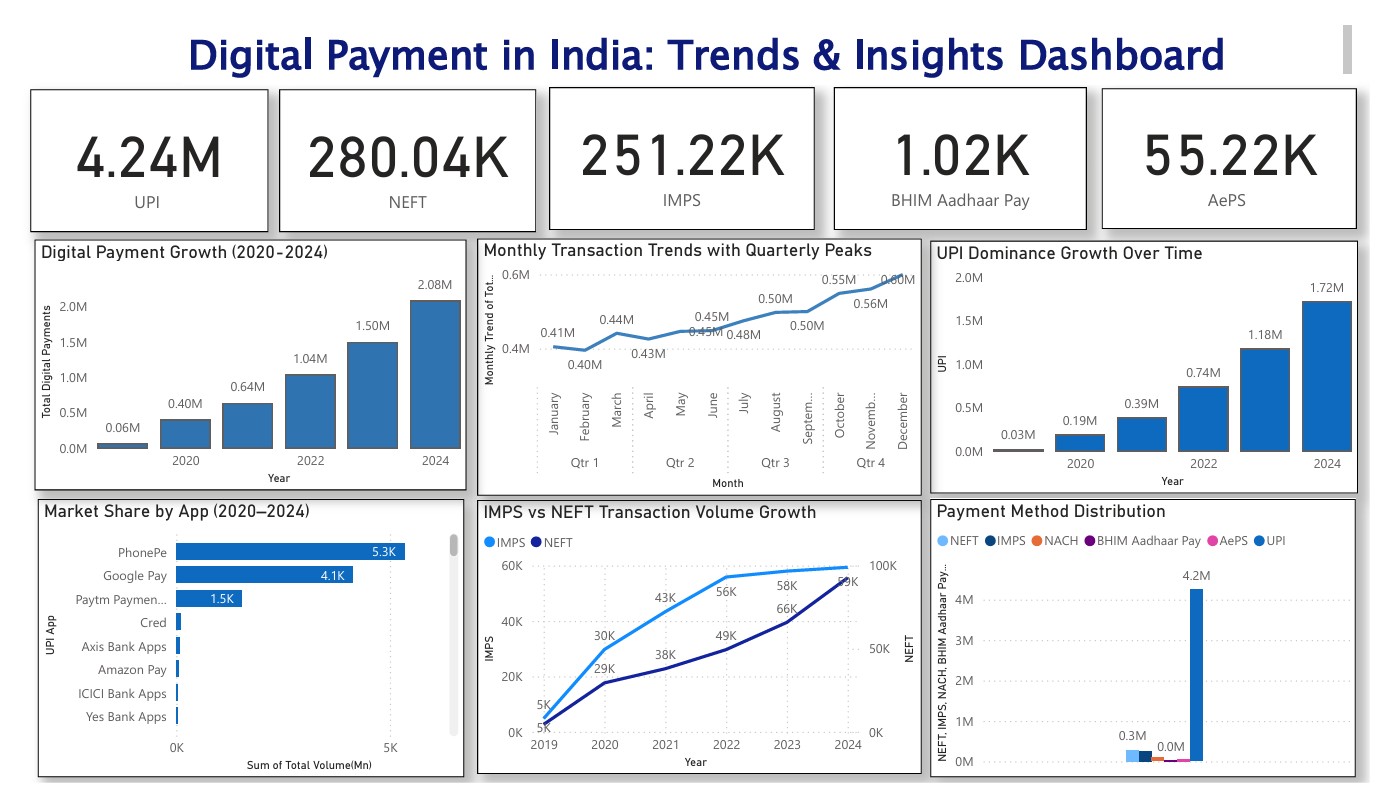

The page's visual inventory and layout, read from the dashboard file:
{"tool":"powerbi","page":{"name":"Digital Payment","canvas":[1280,720],"ordinal":0},"visuals":[{"type":"clusteredBarChart","title":"Market Share by App (2020–2024)","fields":{"Category":["UPI Apps.Application Name"],"Y":["Sum(UPI Apps.Total Volume(Mn))"]},"box":[22.1,451.5,403,263.3],"z":0},{"type":"card","title":"UPI Total","fields":{"Values":["Sum(Payment.2.7 UPI @)"]},"box":[15,65,225,135],"z":1000},{"type":"card","fields":{"Values":["Sum(Payment.2.6 NEFT)"]},"box":[250,65,243.3,135],"z":2000},{"type":"card","fields":{"Values":["Sum(Payment.2.4 IMPS)"]},"box":[504.6,63.2,251.7,135.1],"z":3000},{"type":"card","fields":{"Values":["Sum(Payment.3.1 BHIM Aadhaar Pay)"]},"box":[773.7,63.2,239.3,135.1],"z":4000},{"type":"card","fields":{"Values":["Sum(Payment.5.1 AePS @)"]},"box":[1026.6,64.5,241.8,132.7],"z":5000},{"type":"textbox","box":[158.7,0,1109.7,60.8],"z":6000},{"type":"lineChart","title":"IMPS vs NEFT Transaction Volume Growth","fields":{"Category":["Payment.Year.Variation.Date Hierarchy.Year"],"Y":["Sum(Payment.2.4 IMPS)"],"Y2":["Sum(Payment.2.6 NEFT)"]},"box":[436.8,453,420.7,258.9],"z":7000},{"type":"clusteredColumnChart","title":"UPI Dominance Growth Over Time","fields":{"Category":["Payment.Year.Variation.Date Hierarchy.Year"],"Y":["Sum(Payment.2.7 UPI)"]},"box":[865.1,208.1,403.6,238.9],"z":8000},{"type":"lineChart","title":"Monthly Transaction Trends with Quarterly Peaks","fields":{"Category":["Payment.Year.Variation.Date Hierarchy.Quarter","Payment.Year.Variation.Date Hierarchy.Month"],"Y":["Sum(Payment.Total Payments)"]},"box":[436.8,205.9,420.7,242.7],"z":9000},{"type":"lineStackedColumnComboChart","title":"Digital Payment Growth (2020-2024)","fields":{"Category":["Payment.Year.Variation.Date Hierarchy.Year"],"Y":["Sum(Payment.Total Digital Payments)"]},"box":[18.6,206.8,408.5,237.3],"z":10000},{"type":"clusteredColumnChart","title":"Payment Method Distribution","fields":{"Y":["Sum(Payment.2.6 NEFT)","Sum(Payment.2.4 IMPS)","Sum(Payment.2.5 NACH Cr $)","Sum(Payment.3.1 BHIM Aadhaar Pay)","Sum(Payment.5.1 AePS @)","Sum(Payment.UPI)"]},"box":[865.5,452.4,401.2,263.1],"z":11000}]}

Visuals, with their boxes in screenshot pixels (x1, y1, x2, y2), scaled from the page's 1280x720 canvas onto the 1376x787 screenshot:
"Market Share by App (2020–2024)" clusteredBarChart: [24, 494, 457, 781]
"UPI Total" card: [16, 71, 258, 219]
card - Sum(Payment.2.6 NEFT): [269, 71, 530, 219]
card - Sum(Payment.2.4 IMPS): [542, 69, 813, 217]
card - Sum(Payment.3.1 BHIM Aadhaar Pay): [832, 69, 1089, 217]
card - Sum(Payment.5.1 AePS @): [1104, 71, 1364, 216]
textbox: [171, 0, 1364, 66]
"IMPS vs NEFT Transaction Volume Growth" lineChart: [470, 495, 922, 778]
"UPI Dominance Growth Over Time" clusteredColumnChart: [930, 227, 1364, 489]
"Monthly Transaction Trends with Quarterly Peaks" lineChart: [470, 225, 922, 490]
"Digital Payment Growth (2020-2024)" lineStackedColumnComboChart: [20, 226, 459, 485]
"Payment Method Distribution" clusteredColumnChart: [930, 494, 1362, 782]
